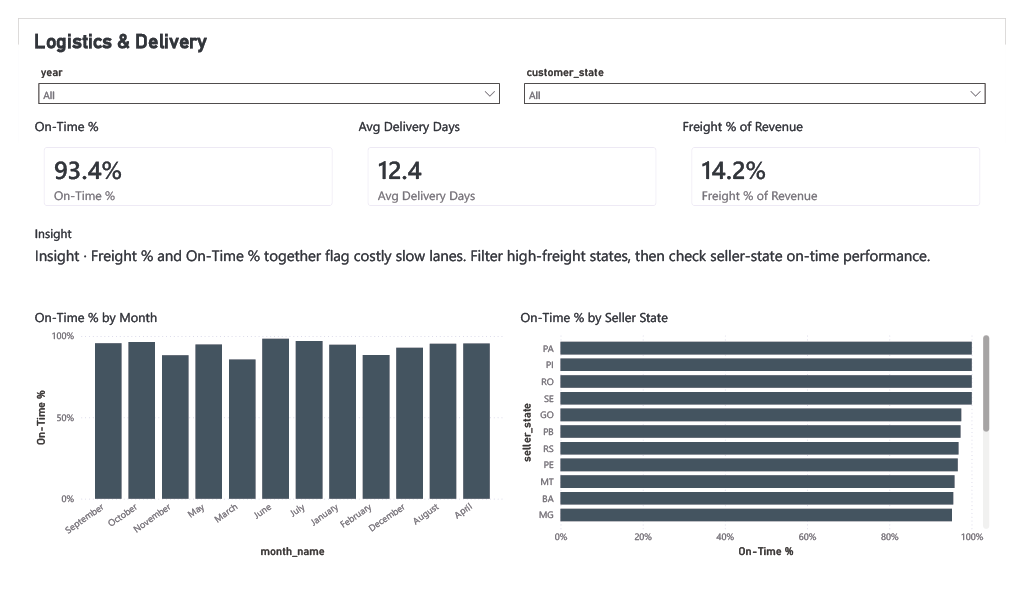

Layout of this report page (visuals, bound fields, positions):
{"tool":"powerbi","page":{"name":"04 Logistics & Delivery","canvas":[1280,720],"ordinal":3},"visuals":[{"type":"textbox","box":[16,8,1248,44],"z":0},{"type":"slicer","title":"Year","fields":{"Values":["vw_sales.year"]},"box":[16,56,618,64],"z":1000},{"type":"slicer","title":"Customer State","fields":{"Values":["vw_sales.customer_state"]},"box":[646,56,618,64],"z":2000},{"type":"cardVisual","title":"On-Time %","fields":{"Data":["vw_sales.On-Time %"]},"box":[16,128,408,132],"z":3000},{"type":"cardVisual","title":"Avg Delivery Days","fields":{"Data":["vw_sales.Avg Delivery Days"]},"box":[436,128,408,132],"z":4000},{"type":"cardVisual","title":"Freight % of Revenue","fields":{"Data":["vw_sales.Freight % of Revenue"]},"box":[856,128,408,132],"z":5000},{"type":"textbox","title":"Insight","box":[16,268,1248,100],"z":6000},{"type":"columnChart","title":"On-Time % by Month","fields":{"Category":["vw_sales.month_name"],"Y":["vw_sales.On-Time %"]},"box":[16,376,618,328],"z":7000},{"type":"barChart","title":"On-Time % by Seller State","fields":{"Category":["vw_sales.seller_state"],"Y":["vw_sales.On-Time %"]},"box":[646,376,618,328],"z":8000}]}

Visuals, with their boxes in screenshot pixels (x1, y1, x2, y2), scaled from the page's 1280x720 canvas onto the 1024x592 screenshot:
textbox: 13 7 1011 43
"Year" slicer: 13 46 507 99
"Customer State" slicer: 517 46 1011 99
"On-Time %" cardVisual: 13 105 339 214
"Avg Delivery Days" cardVisual: 349 105 675 214
"Freight % of Revenue" cardVisual: 685 105 1011 214
"Insight" textbox: 13 220 1011 303
"On-Time % by Month" columnChart: 13 309 507 579
"On-Time % by Seller State" barChart: 517 309 1011 579
